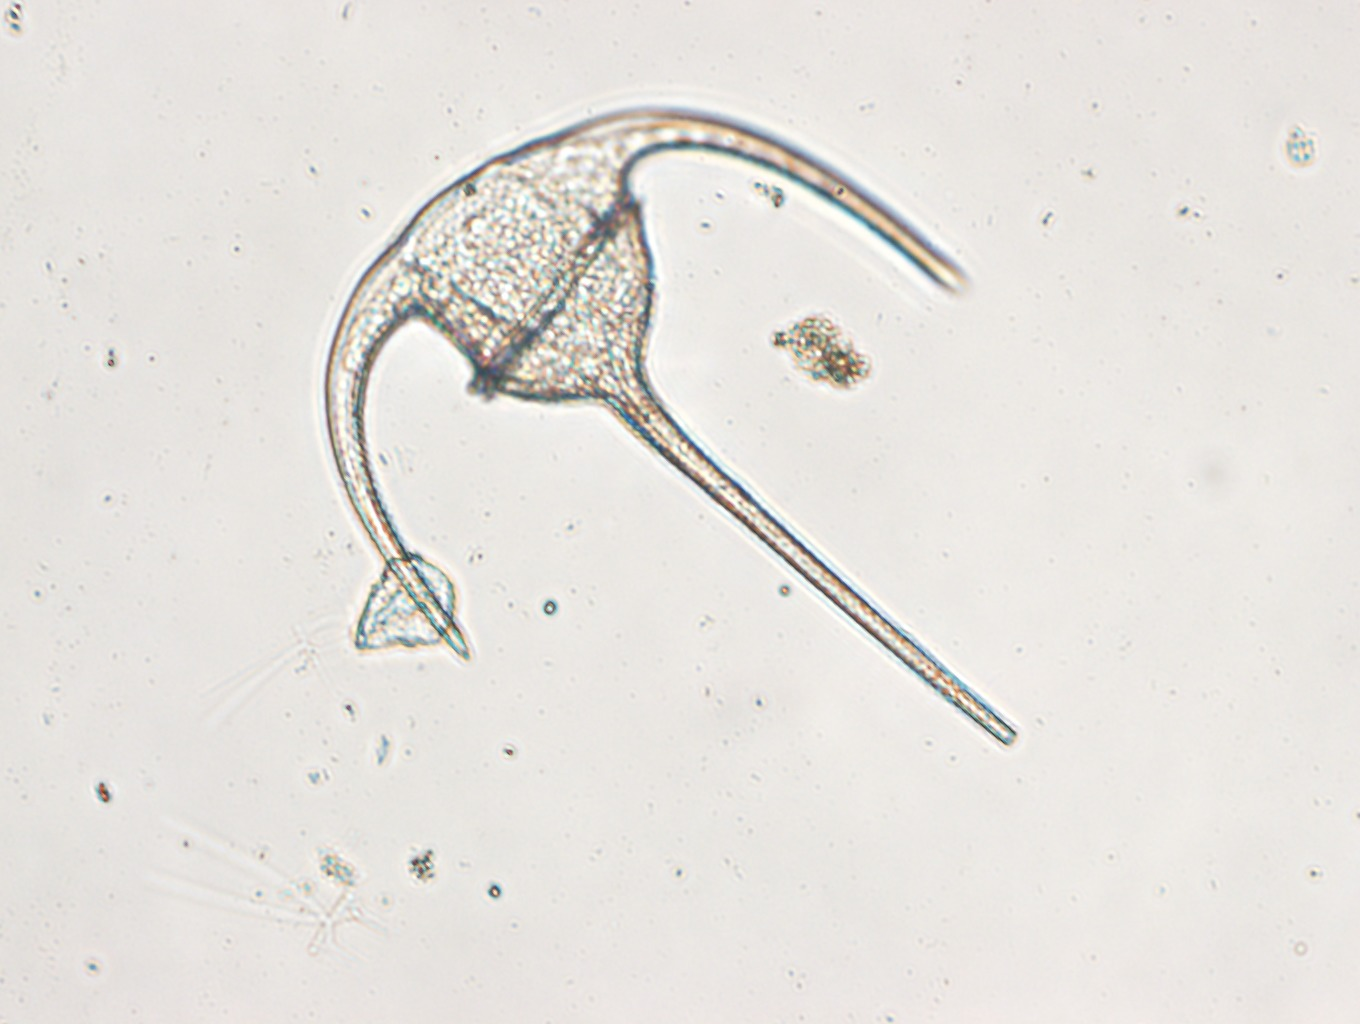ceratium tripos: (320, 99, 1020, 751)
